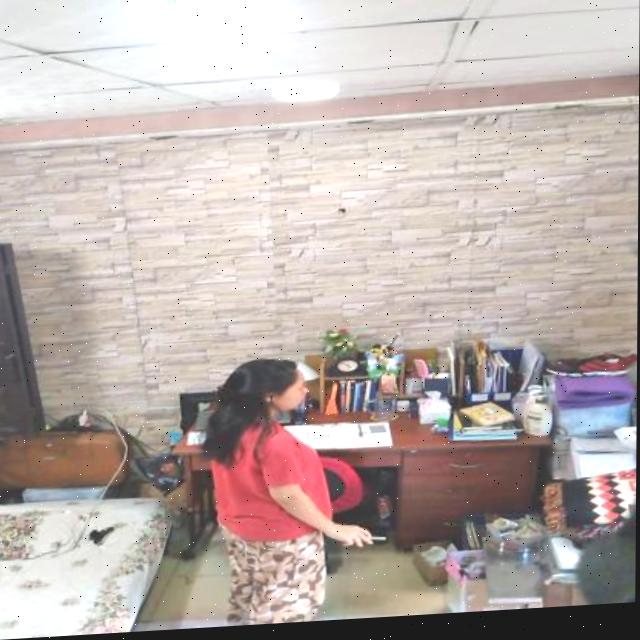cigarette: (368, 541, 388, 546)
